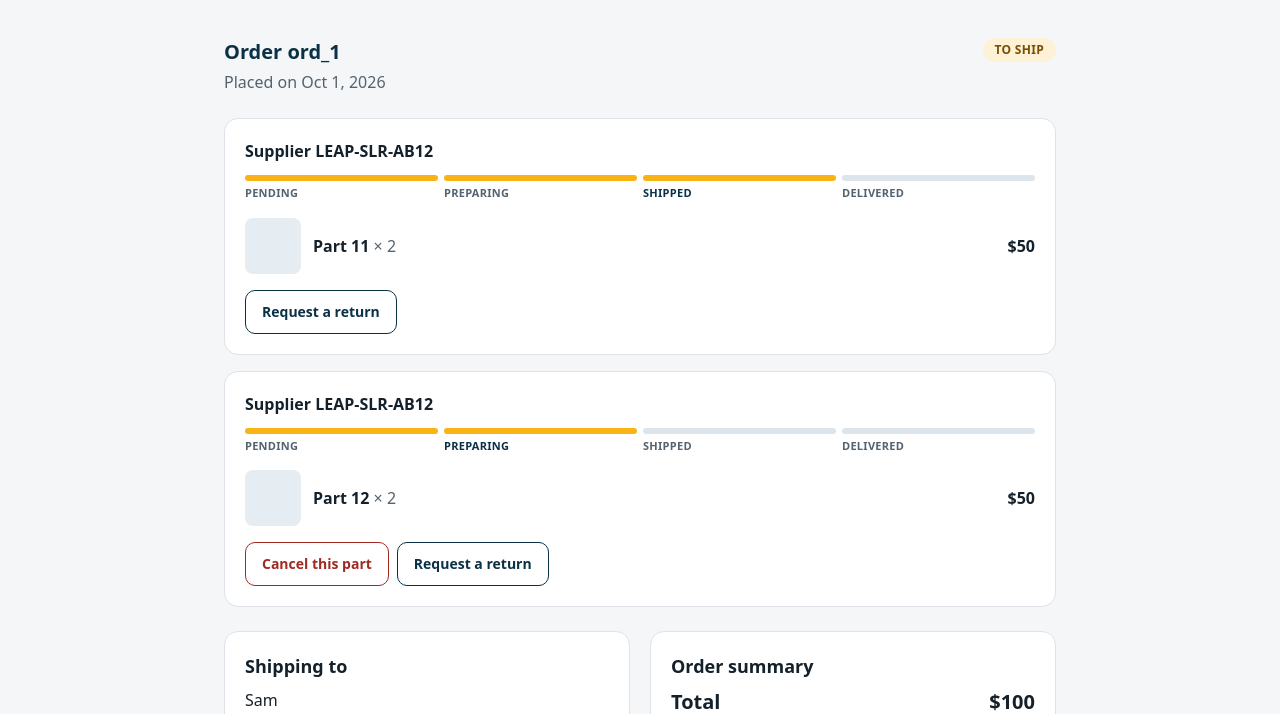
Test: order detail: cancelling › CRITICAL: when some parts have already shipped the whole order cannot be cancelled, but each part that can still be gets its own button
Expected: the heading "Order ord_1" is shown, [224, 38, 341, 65]
What coordinates should you click on to do the following:
click the button "Cancel this part"
I would click on:
 (317, 564)
Its box is [245, 542, 389, 586].
(page scrolled)
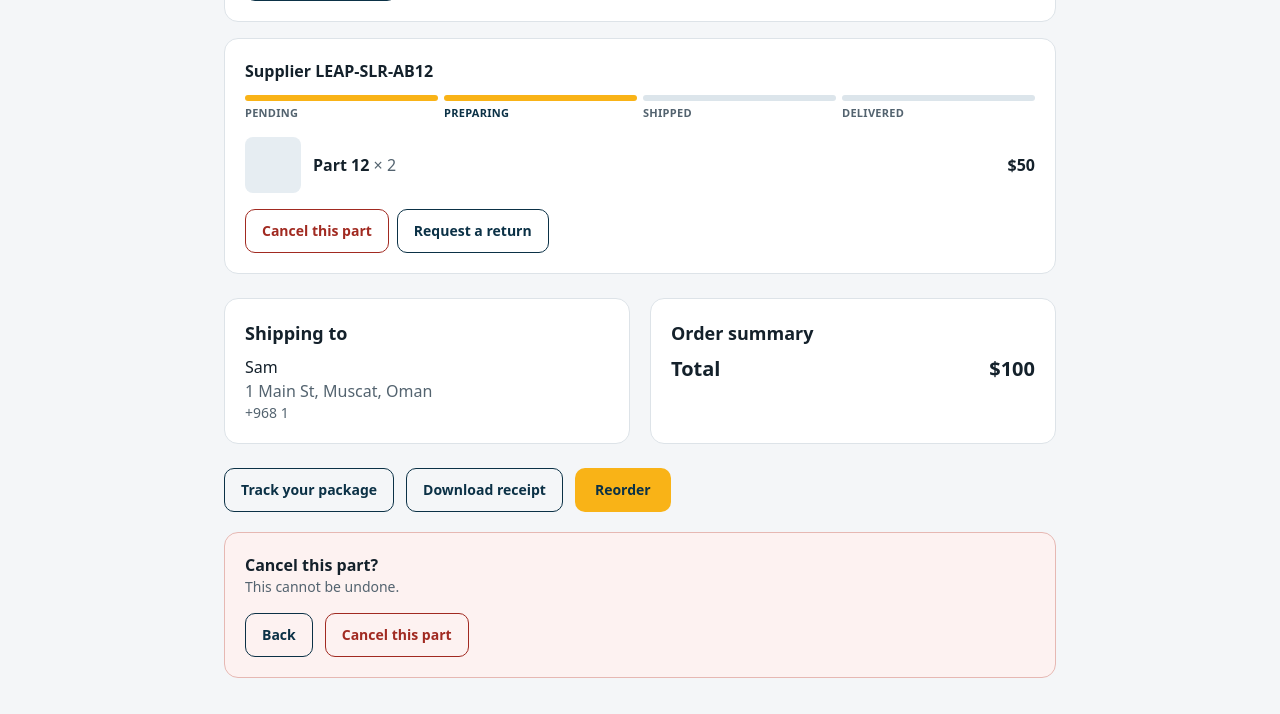
What coordinates should you click on to do the following:
click the button "Cancel this part" below "This cannot be undone."
I would click on:
 (397, 635)
Its box is [325, 613, 469, 657].
(page scrolled)
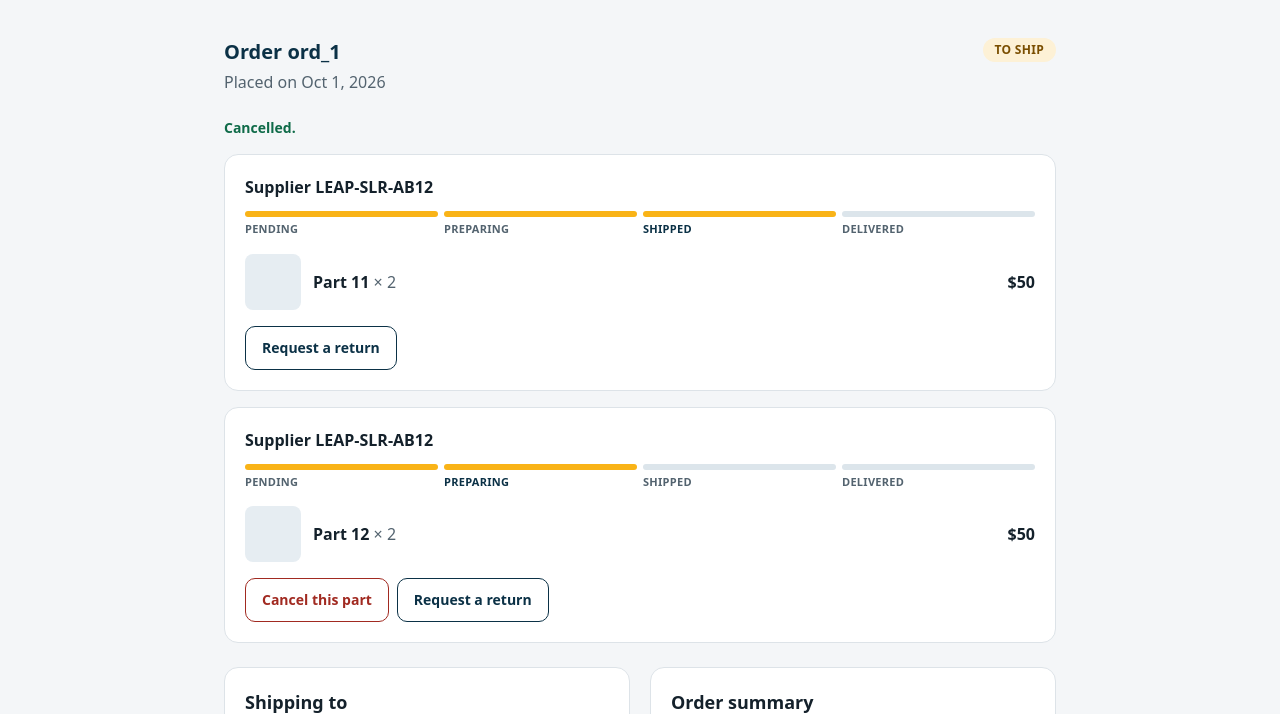
Expected: the text "Cancelled." is shown, [224, 118, 296, 137]
